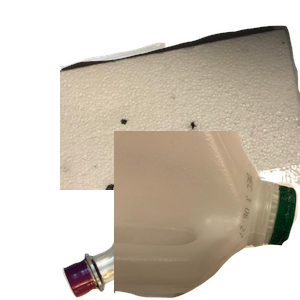glass: (60, 180, 300, 300)
paper: (56, 40, 229, 166)
plastic: (114, 131, 300, 300)
trash: (60, 23, 300, 203)
